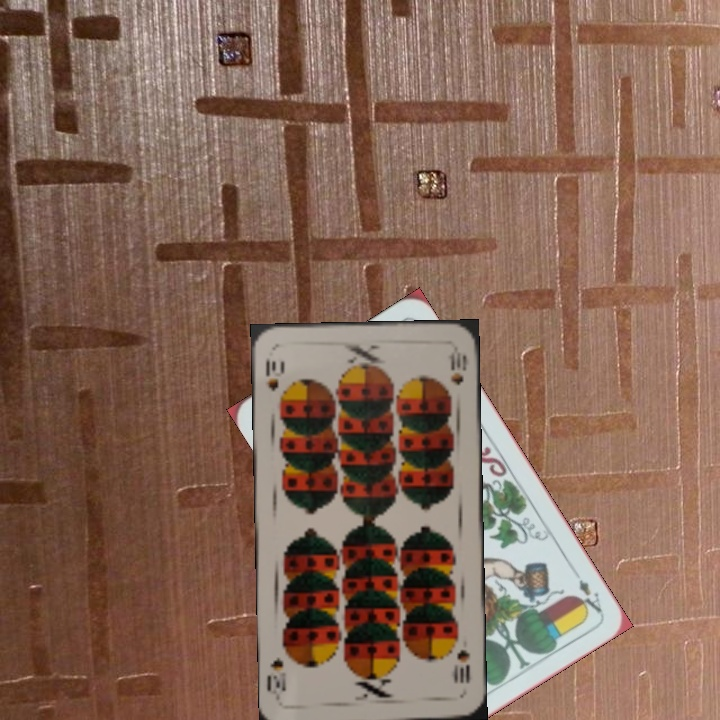EA: (572, 575, 605, 617)
S10: (451, 645, 473, 687), (261, 354, 281, 394)
